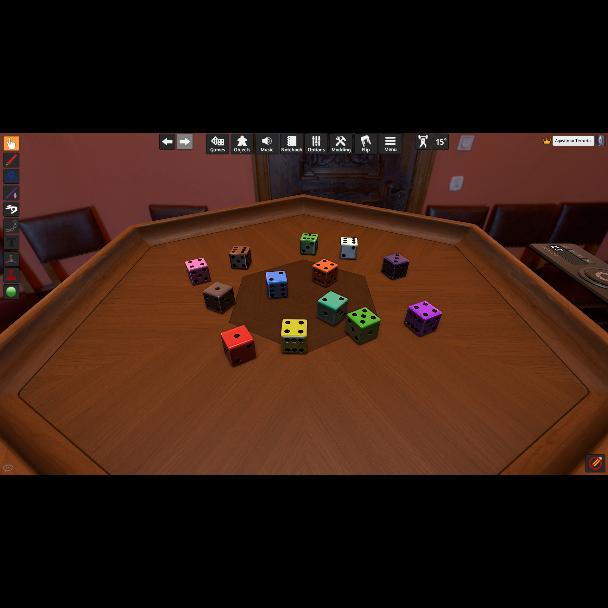d6: (221, 326, 256, 366), (345, 308, 379, 345), (406, 301, 438, 337), (318, 292, 346, 327), (202, 282, 232, 314), (280, 320, 306, 356), (380, 252, 406, 280), (186, 257, 210, 285), (265, 270, 287, 300), (313, 260, 336, 288), (228, 246, 252, 270), (340, 236, 358, 260), (300, 233, 316, 255)
